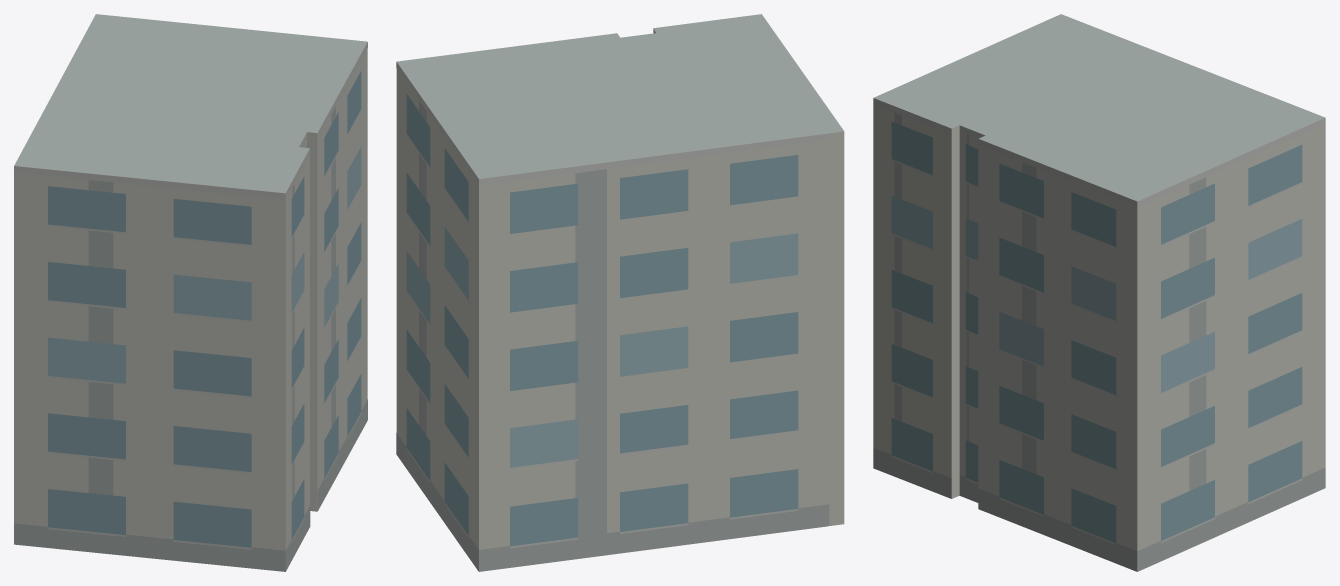
Rendered from survey-upis-32892487.glb.
3 renders of one model, left to right at view 1: azimuth 30°, elevation 25°; view 2: azimuth 150°, elevation 25°; view 3: azimuth 270°, elevation 25°, orthographic. The views are drawn at different scales.
Parts seen in each view (by area): view 1: survey-upis-32892487.tmp; view 2: survey-upis-32892487.tmp; view 3: survey-upis-32892487.tmp.
Boxes of the visible parts, x1,y1,x2,y2 form: survey-upis-32892487.tmp: [14, 14, 367, 571]; survey-upis-32892487.tmp: [396, 14, 844, 571]; survey-upis-32892487.tmp: [873, 14, 1325, 571].
Bounding box in the file's own units: 15.59 × 14.35 × 15.89.
